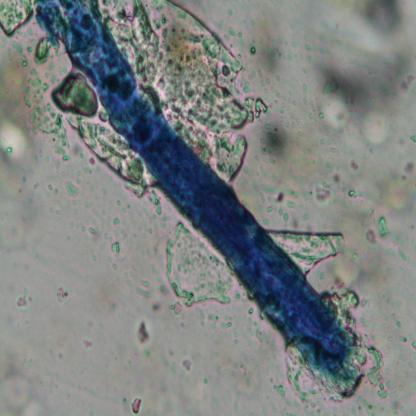Background material: (113, 2, 253, 162), (314, 45, 416, 139), (15, 41, 72, 162), (162, 222, 232, 315), (76, 121, 146, 197), (272, 225, 347, 266), (259, 66, 309, 123), (264, 186, 333, 227), (50, 69, 98, 123), (326, 268, 364, 327), (280, 354, 317, 410), (376, 162, 416, 212), (257, 120, 296, 168), (322, 152, 364, 196), (0, 115, 33, 170), (360, 0, 406, 38), (0, 1, 35, 38), (255, 32, 284, 76), (368, 347, 390, 400), (112, 196, 134, 238), (148, 189, 163, 233), (370, 212, 390, 242), (88, 213, 104, 250), (44, 180, 60, 208), (136, 318, 150, 347), (54, 283, 70, 308), (79, 332, 97, 354), (252, 98, 268, 122), (64, 180, 80, 199), (128, 396, 144, 415), (15, 292, 30, 312), (110, 239, 121, 258), (182, 356, 192, 373)
Cotton: (33, 2, 366, 396)
